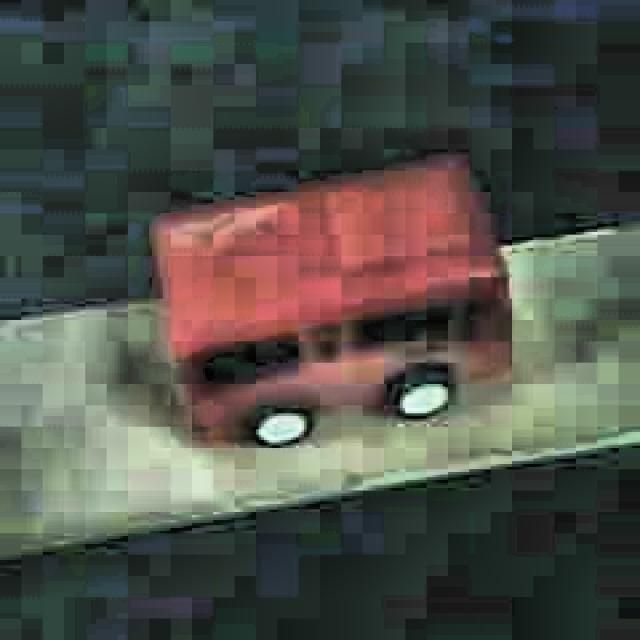bus: (152, 156, 512, 452)
